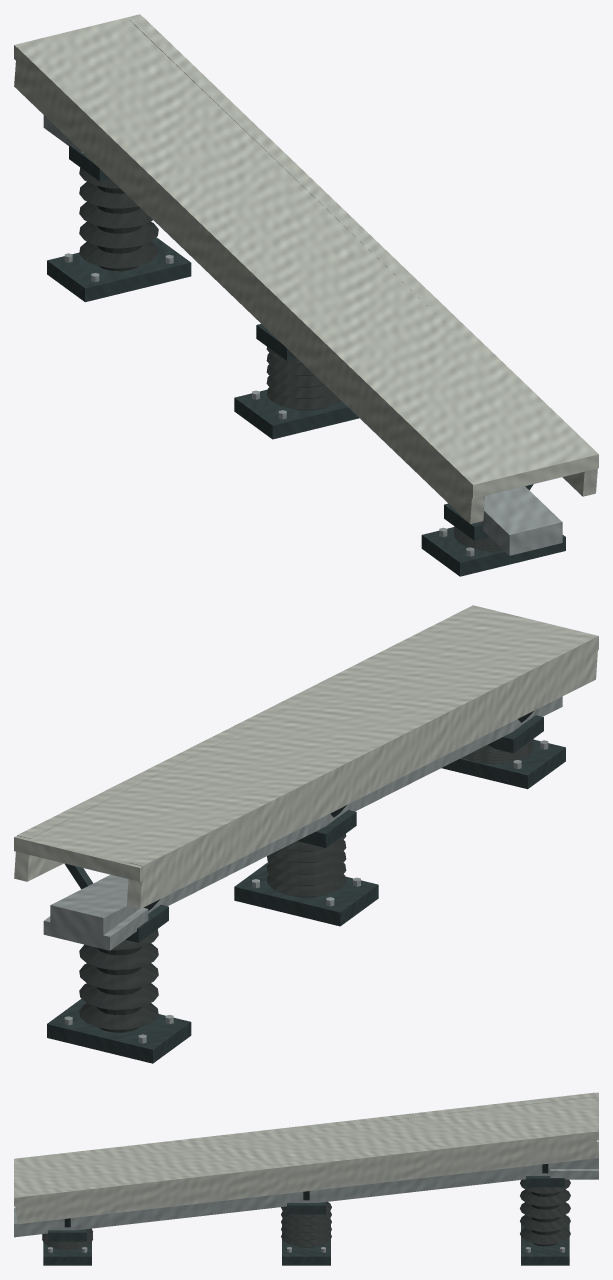
3 views of the same model, one above another, from view 1: azimuth 30°, elevation 25°; view 2: azimuth 150°, elevation 25°; view 3: azimuth 270°, elevation 25° (orthographic). The views are drawn at different scales.
Parts seen in each view (by area): view 1: B027-02_cover_panel, B027-02_base_iron, B027-02_insulator_rubber, B027-02_conductor_steel, B027-02_support_iron; view 2: B027-02_cover_panel, B027-02_insulator_rubber, B027-02_base_iron, B027-02_conductor_steel, B027-02_support_iron, B027-02_terminal_steel, B027-02_fasteners_steel; view 3: B027-02_cover_panel, B027-02_conductor_steel, B027-02_insulator_rubber, B027-02_base_iron, B027-02_support_iron, B027-02_terminal_steel.
Boxes of the visible parts, x1,y1,x2,y2 form: B027-02_cover_panel: (14,14,598,524); B027-02_base_iron: (47,237,565,576); B027-02_insulator_rubber: (79,167,503,551); B027-02_conductor_steel: (479,486,562,555); B027-02_support_iron: (69,145,489,540); B027-02_cover_panel: (14,605,598,909); B027-02_insulator_rubber: (79,739,533,1032); B027-02_base_iron: (47,739,565,1063); B027-02_conductor_steel: (50,696,562,938); B027-02_support_iron: (125,715,543,942); B027-02_terminal_steel: (43,907,148,950); B027-02_fasteners_steel: (64,740,548,1043); B027-02_cover_panel: (14,1092,598,1224); B027-02_conductor_steel: (14,1141,598,1237); B027-02_insulator_rubber: (42,1179,570,1249); B027-02_base_iron: (43,1224,569,1265); B027-02_support_iron: (48,1176,564,1241); B027-02_terminal_steel: (550,1169,598,1179).
Bounding box in the file's own units: 0.38 × 0.62 × 2.4.
4 materials, 4 textured.
